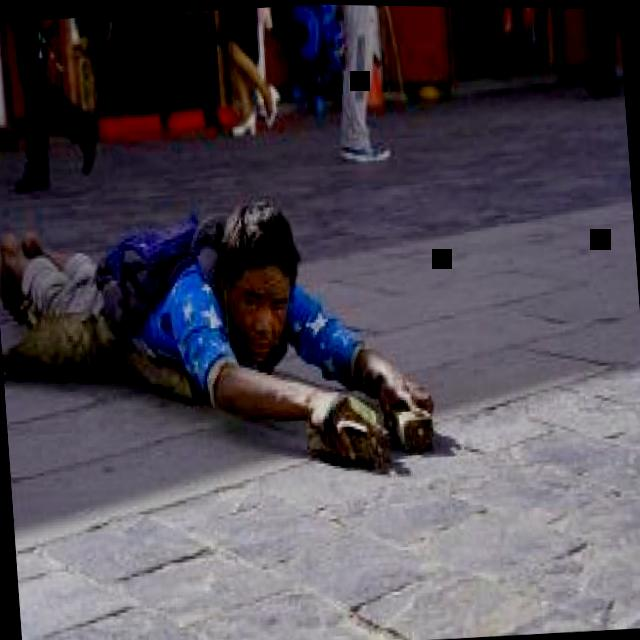Fall-Detected: (0, 147, 450, 488)
